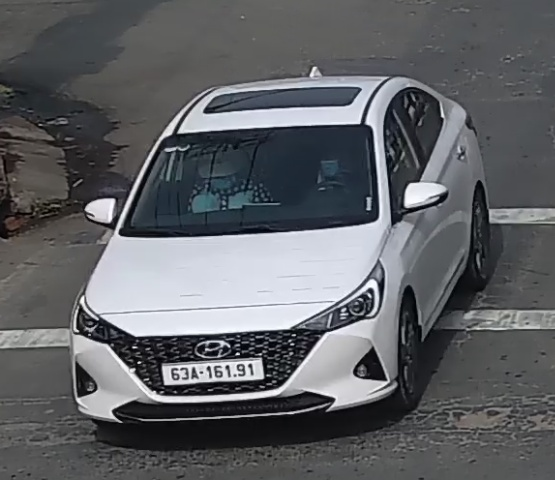vehicle plate: (159, 357, 269, 384)
